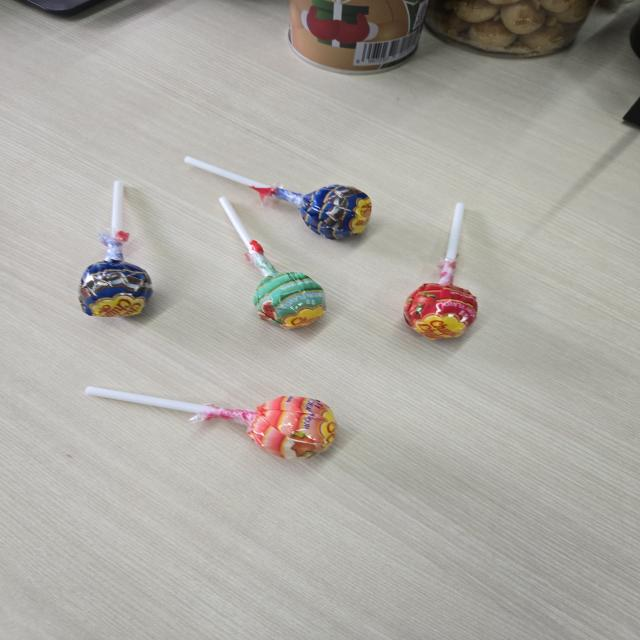lollipop: (79, 381, 341, 462), (177, 151, 374, 246), (211, 192, 330, 333), (78, 177, 156, 318), (404, 202, 480, 344)
